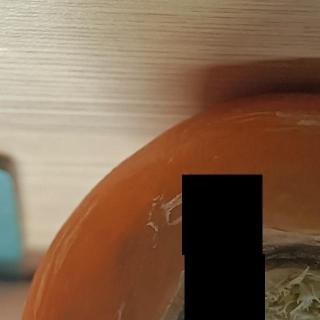carrot: (5, 85, 320, 320)
